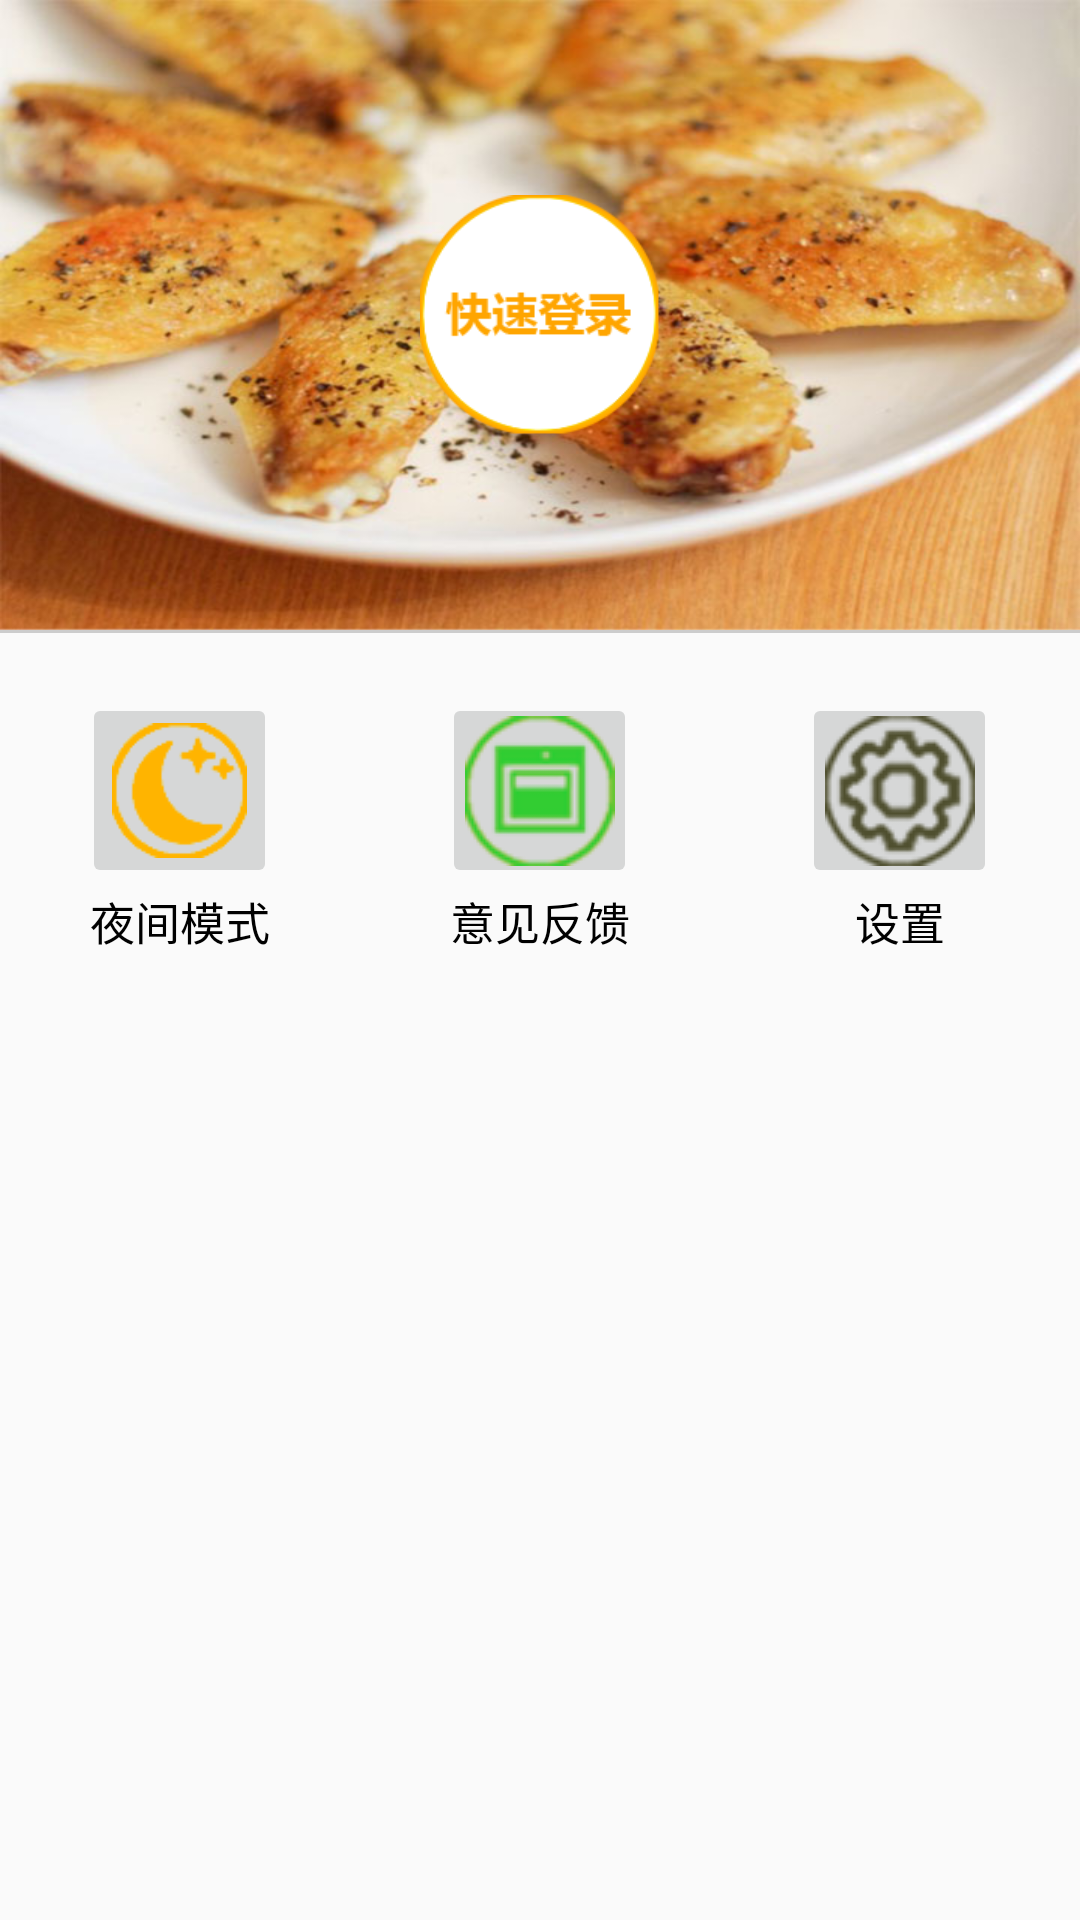

Icon bounding boxes for this 1080w x 1920h phone screenshot, format [left=x1, top=y1, right=x2, bottom=y2]:
moon: [left=94, top=711, right=265, bottom=870]
